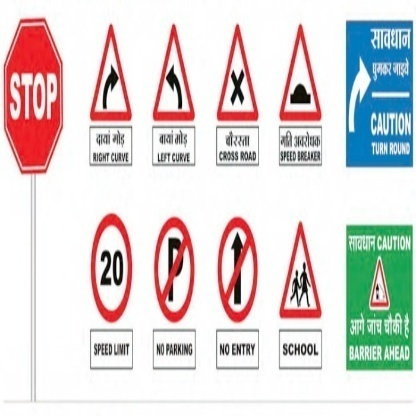stop: (2, 19, 63, 176)
